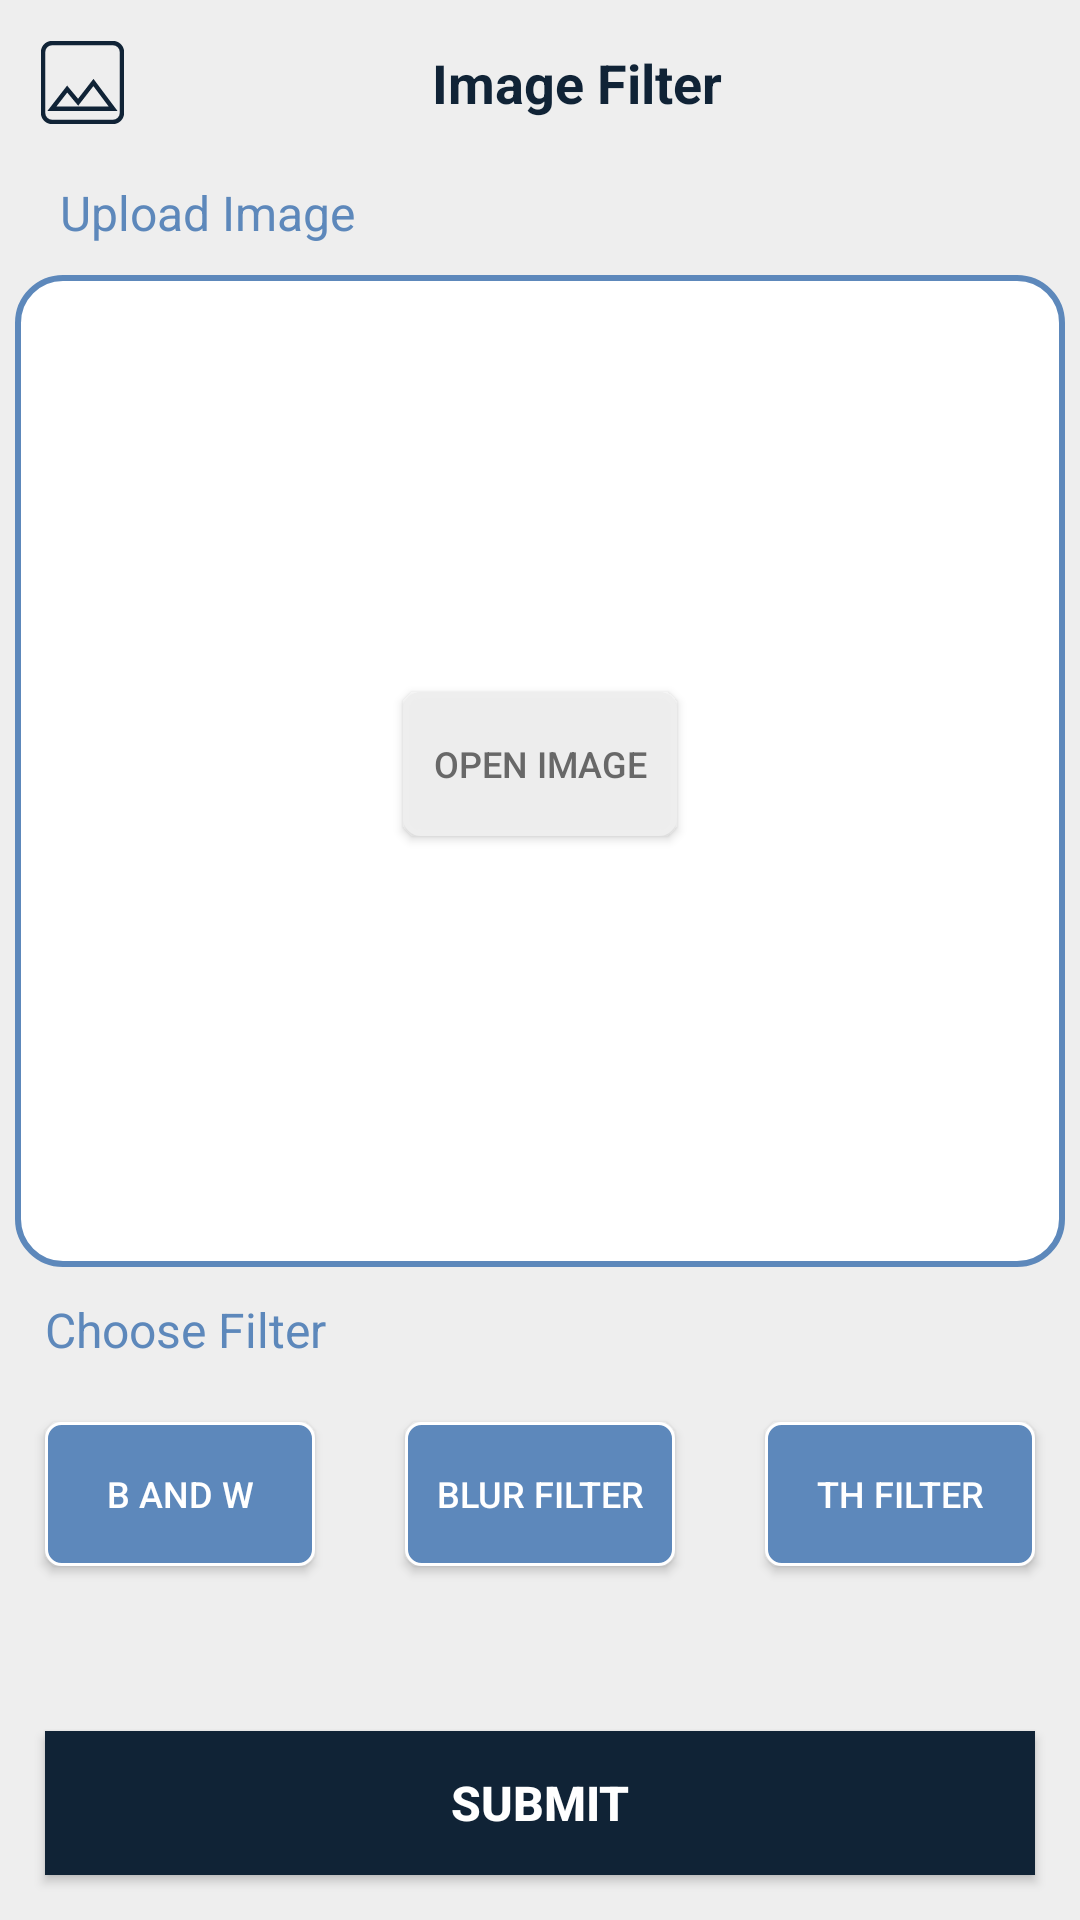

Named icons in this screenshot (1080 x 1920) and their bounding boxes, (x1, y1, x2, y2):
My Gallery: (41, 41, 124, 124)
